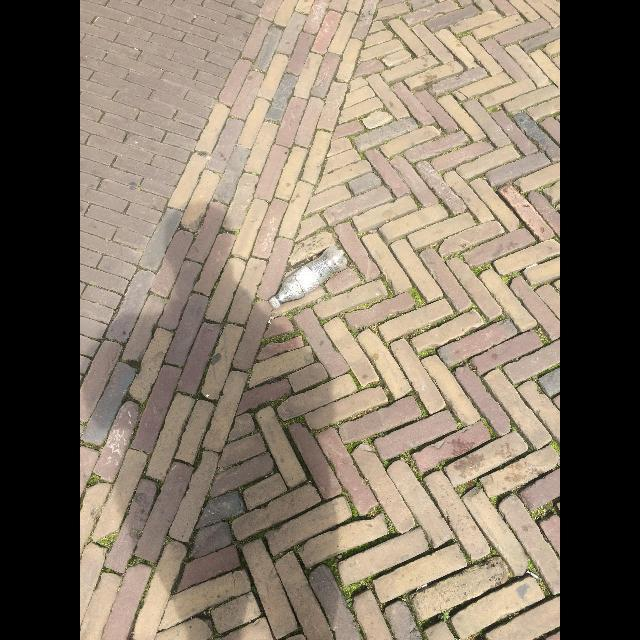Plastic: (269, 247, 347, 310), (269, 298, 279, 310)
